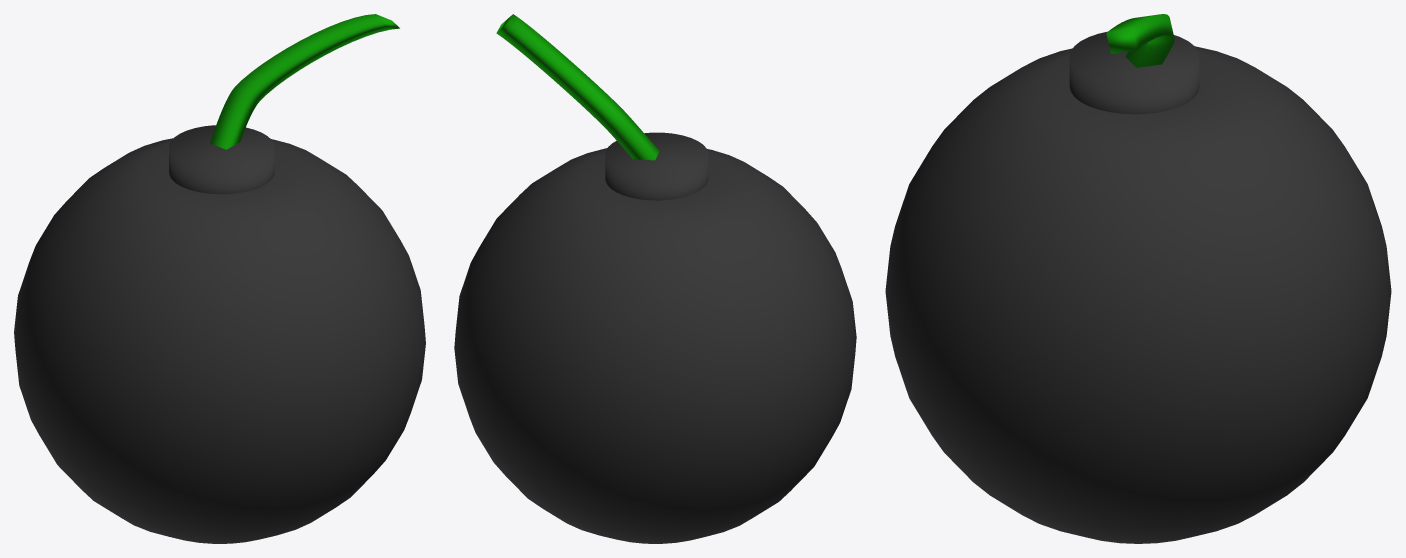
Rendered from CUDN_bomb_ex.fbx.
3 renders of one model, left to right at view 1: azimuth 30°, elevation 25°; view 2: azimuth 150°, elevation 25°; view 3: azimuth 270°, elevation 25°, orthographic. The views are drawn at different scales.
Parts seen in each view (by area): view 1: Cylinder; view 2: Cylinder; view 3: Cylinder.
Part boxes in pixels (bbox=[...]): Cylinder: bbox=[14, 14, 425, 543]; Cylinder: bbox=[454, 14, 856, 543]; Cylinder: bbox=[885, 14, 1391, 543].
Bounding box in the file's own units: 200 × 254 × 200.
